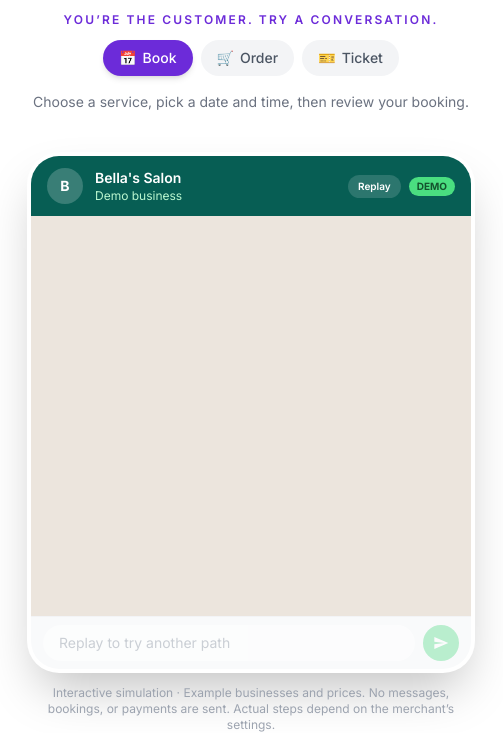
Test: interactive customer demo › retains ticket quantity and total through payment
The width and height of the screenshot is (503, 749).
Click the button with test id "scenario-tab-ticket": x=351, y=58 top-left (302, 40), bottom-right (399, 76)
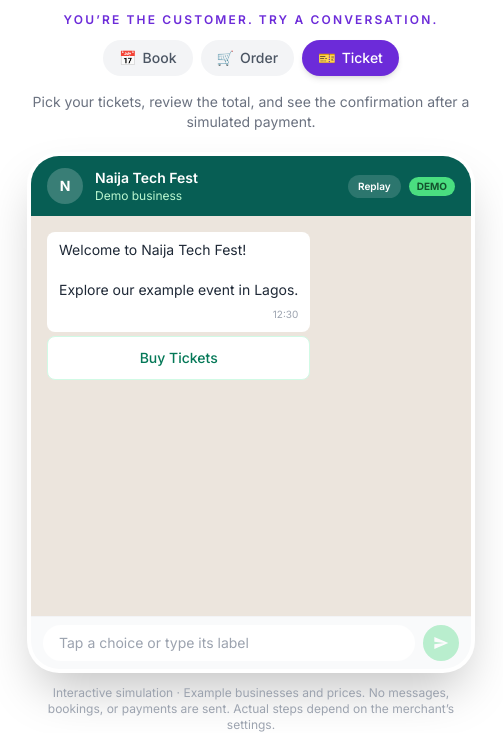
Click the button "Buy Tickets": x=179, y=358 top-left (47, 336), bottom-right (310, 380)
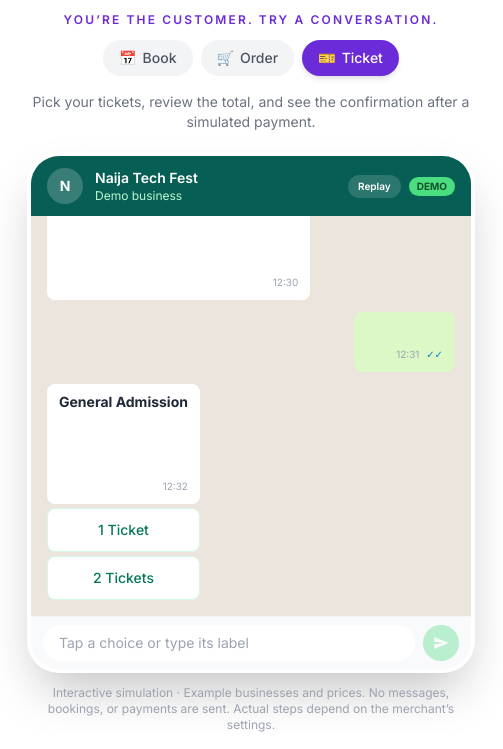
Click the button "2 Tickets": x=124, y=578 top-left (47, 556), bottom-right (200, 600)
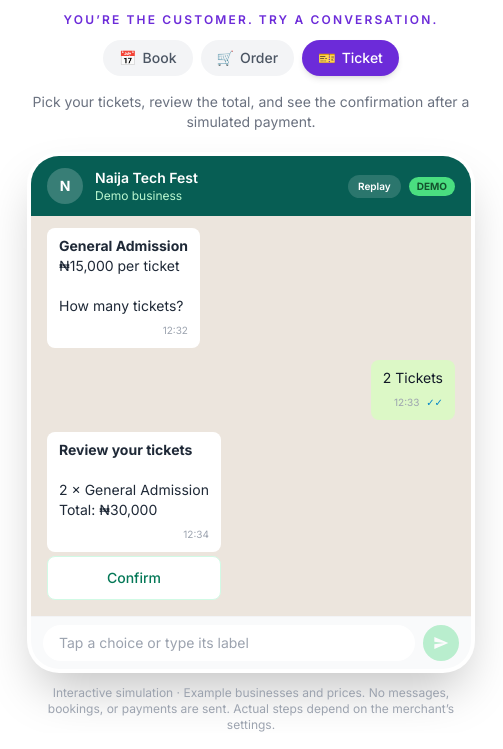
Click the button "Confirm": x=134, y=578 top-left (47, 556), bottom-right (221, 600)
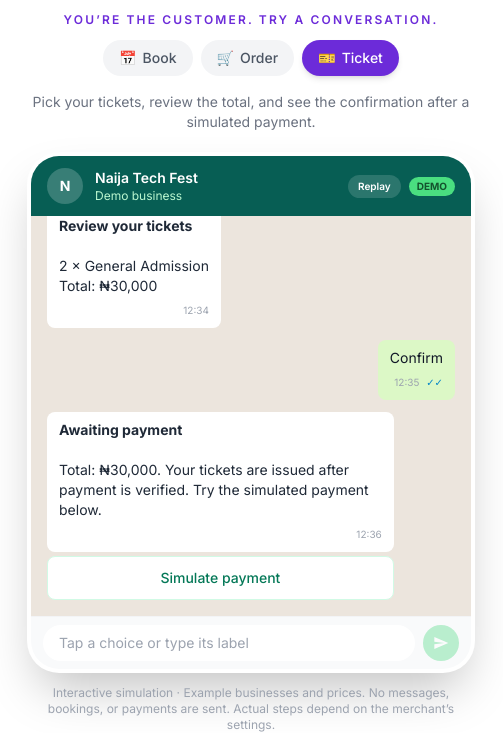
Expected: the text "Your tickets are ready" is not shown
Expected: the element named "Example WhatsApp conversation" shows "₦30,000", top-left (59, 257), bottom-right (209, 294)
Click the button "Simulate payment": x=220, y=578 top-left (47, 556), bottom-right (394, 600)
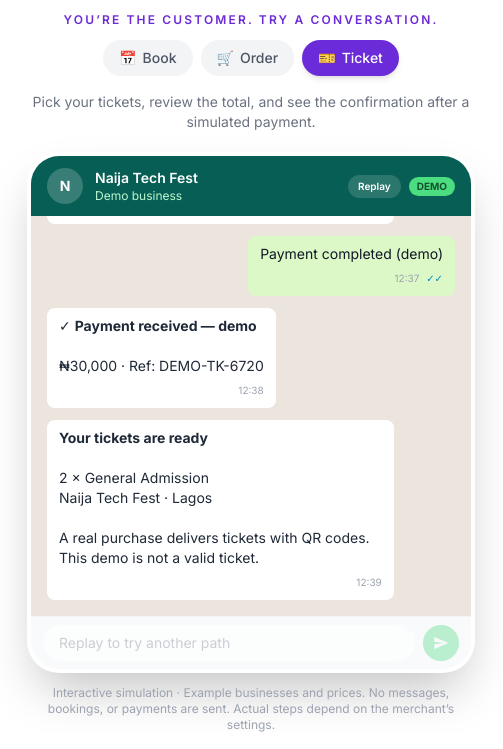
Expected: the element named "Example WhatsApp conversation" shows "Your tickets are ready", top-left (59, 429), bottom-right (208, 446)
